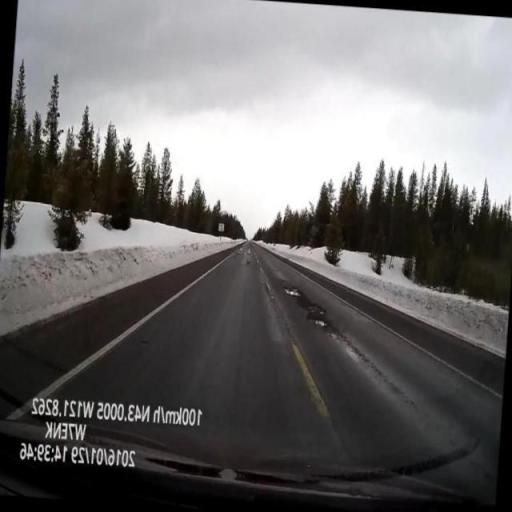pothole: (284, 287, 301, 296), (313, 319, 327, 327)
